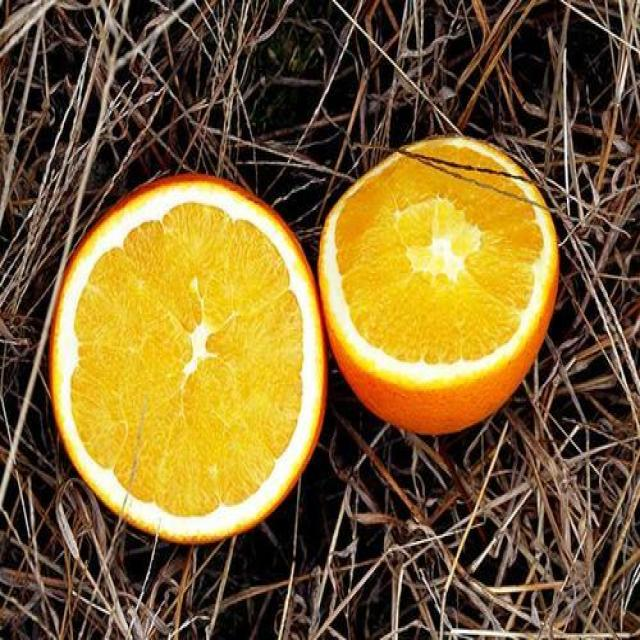Wet: (49, 172, 329, 548), (316, 133, 560, 435)
